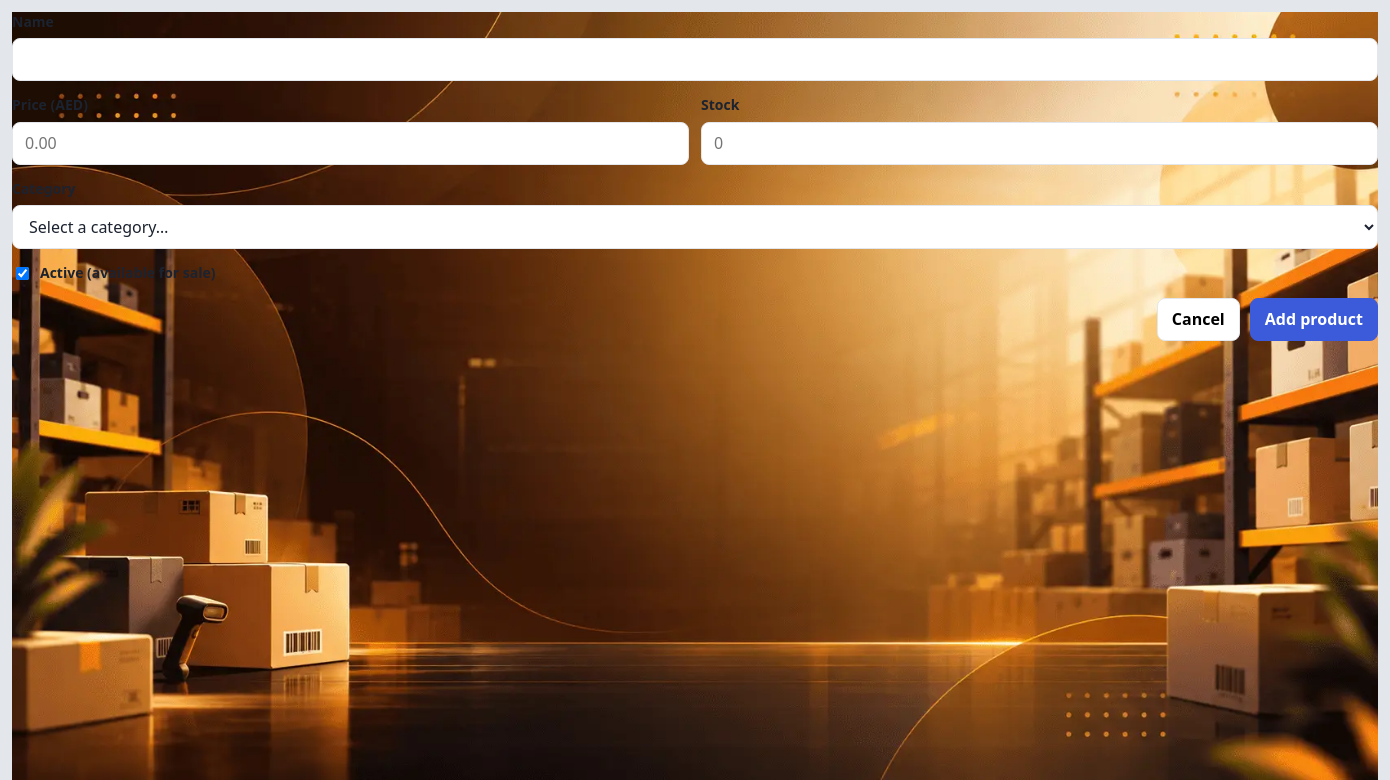
it: ProductForm › shows server-side field errors next to the field
Type "Thing" into the field labelled "Name".
click(695, 60); type("Thing")  # box [12,38,1378,82]
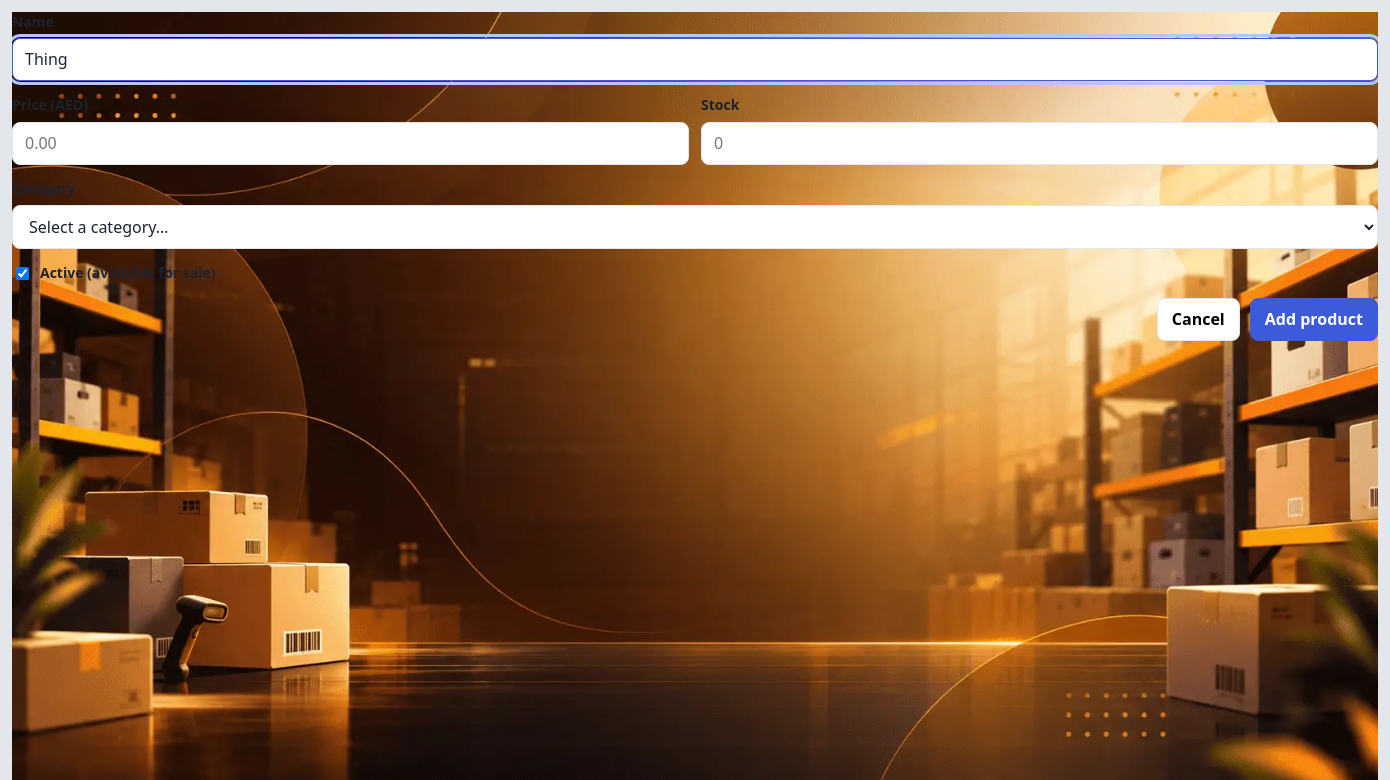
Type "5" into the field labelled "Price (AED)".
click(350, 143); type("5")  # box [12,122,689,165]
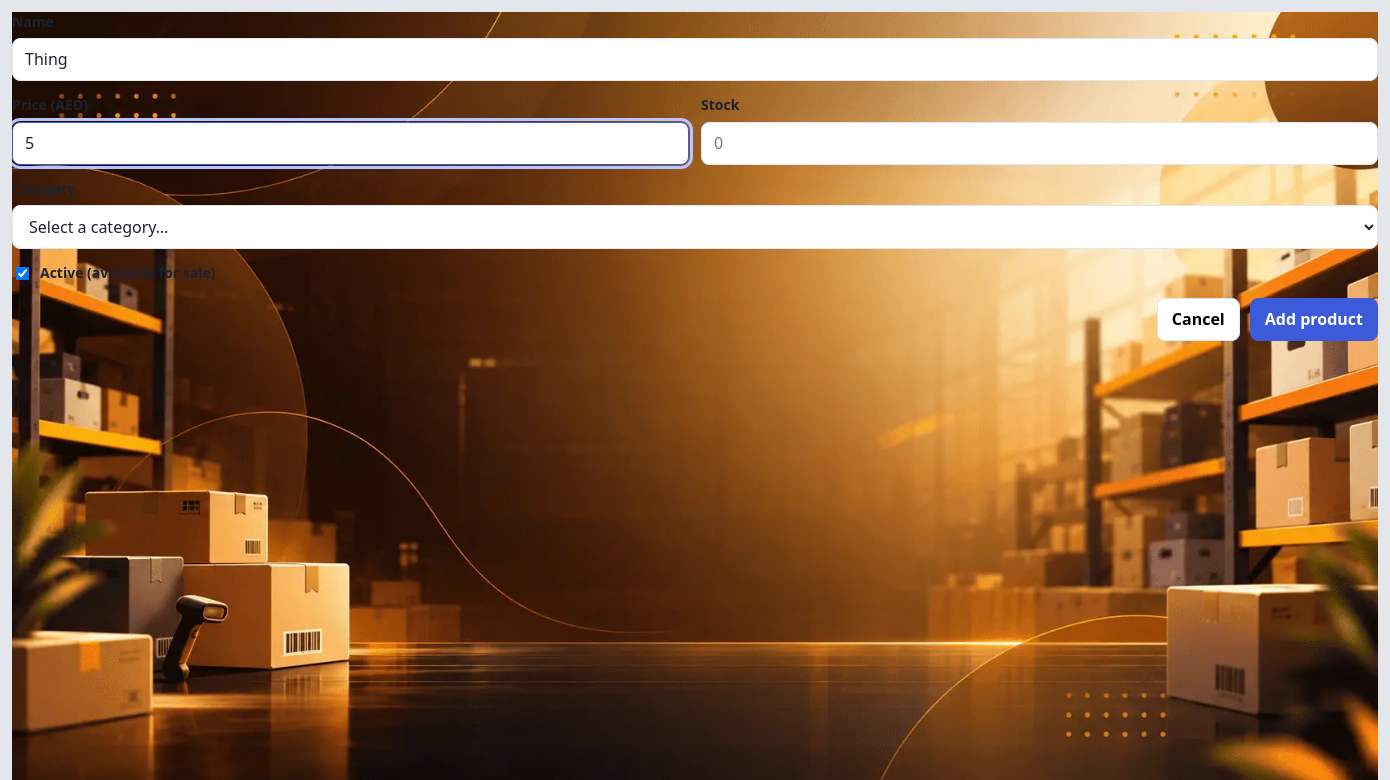
Type "1" into the field labelled "Stock".
click(1040, 143); type("1")  # box [701,122,1378,165]
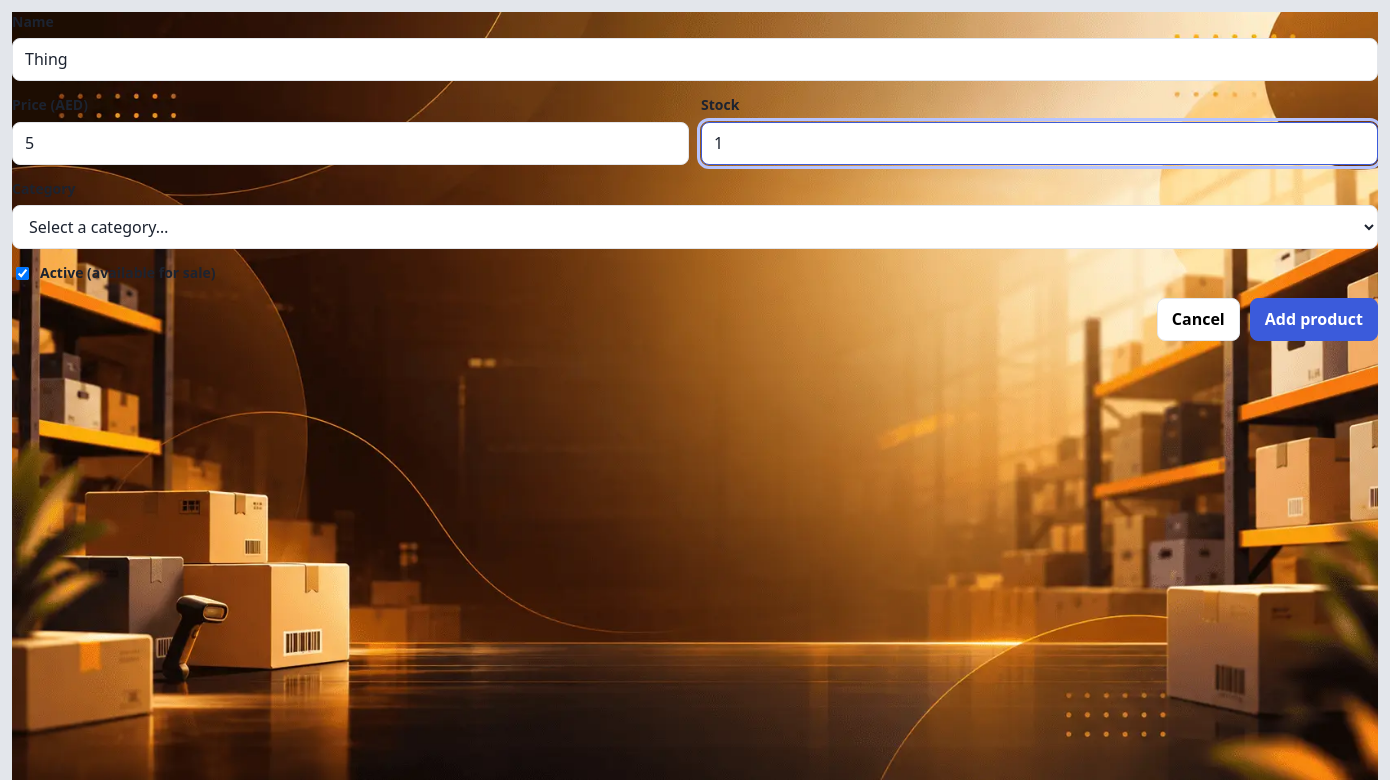
Select "Electronics" in the dropdown labelled "Category" at (695, 227), box [12,205,1378,249]
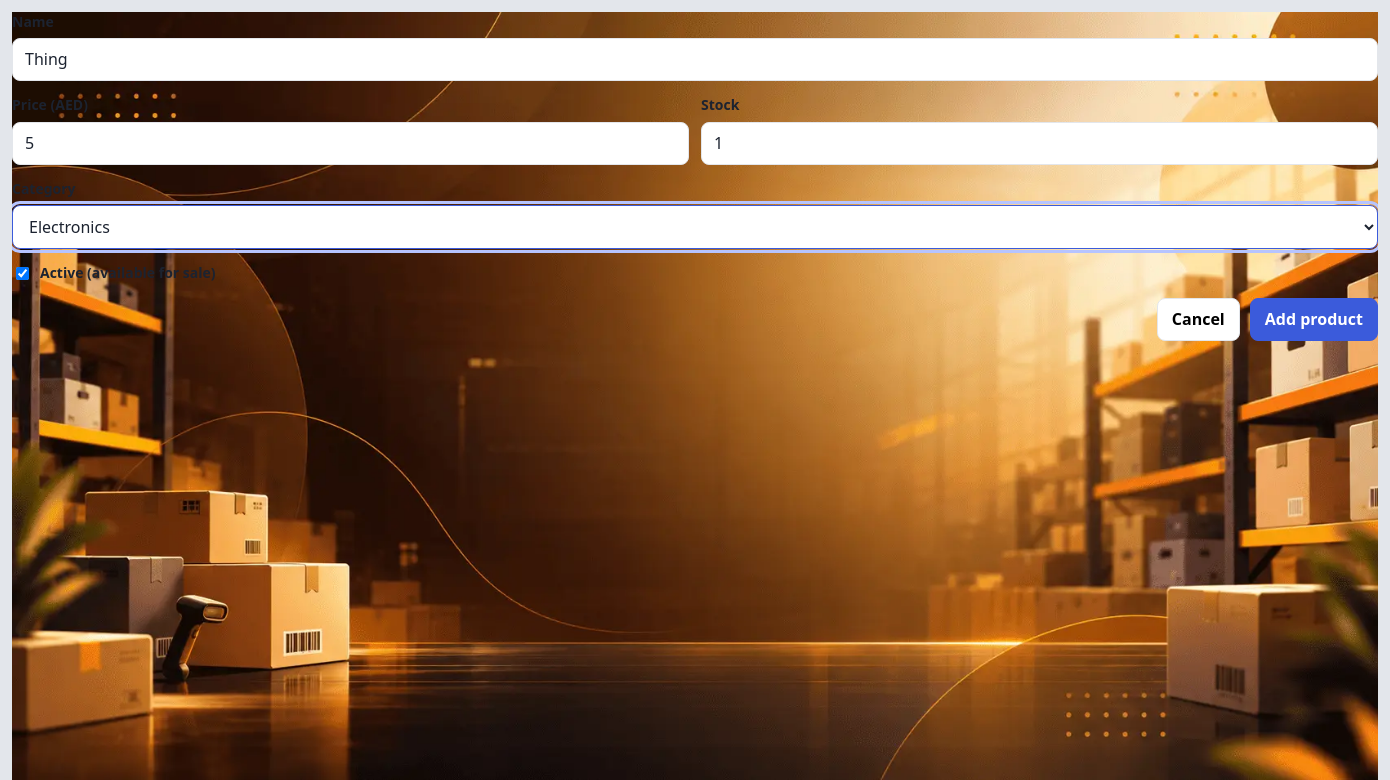
Click the button "Add product".
click(1314, 319)  # box [1250,298,1378,341]
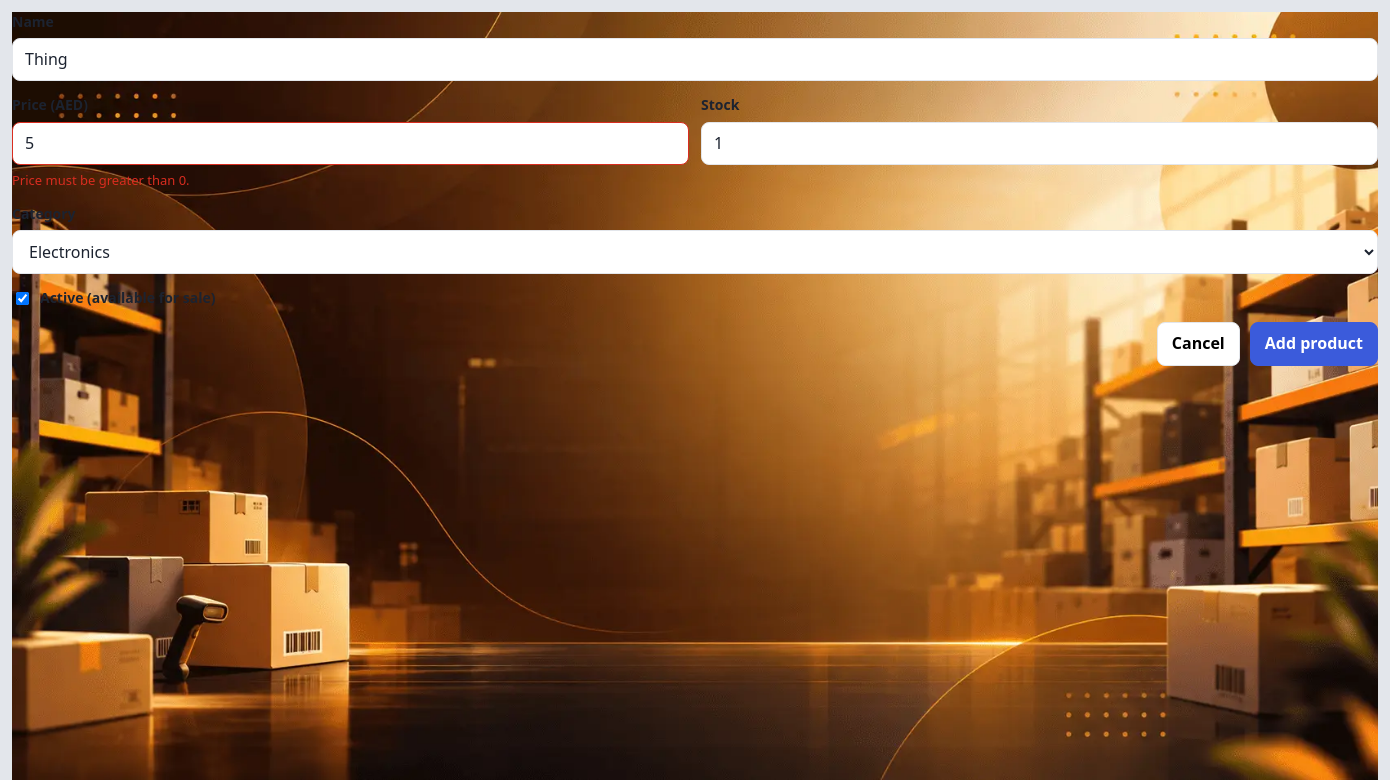
Now the text "Price must be greater than 0." is shown, box [12,171,190,189]
